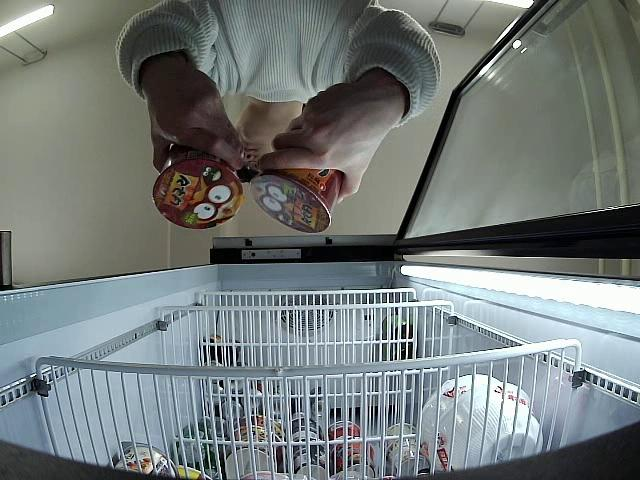00_hand: (258, 82, 380, 204), (149, 69, 243, 176)
06_nuguri_S: (153, 147, 243, 229), (250, 161, 343, 231)
